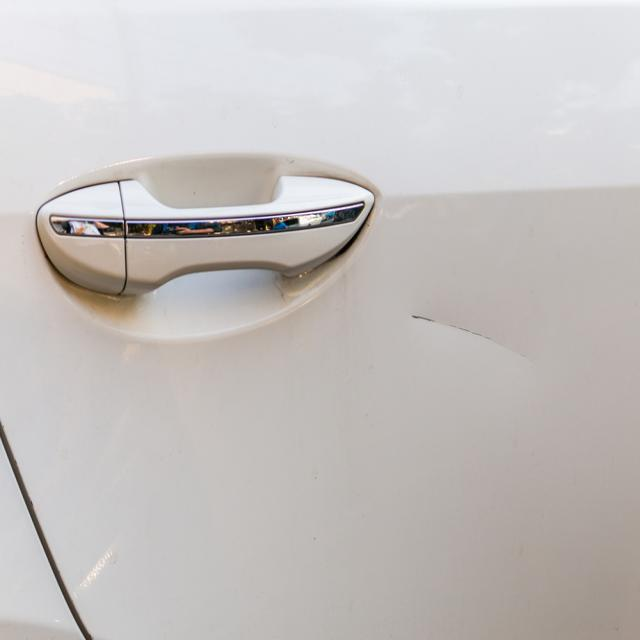scratch: (399, 304, 539, 366)
